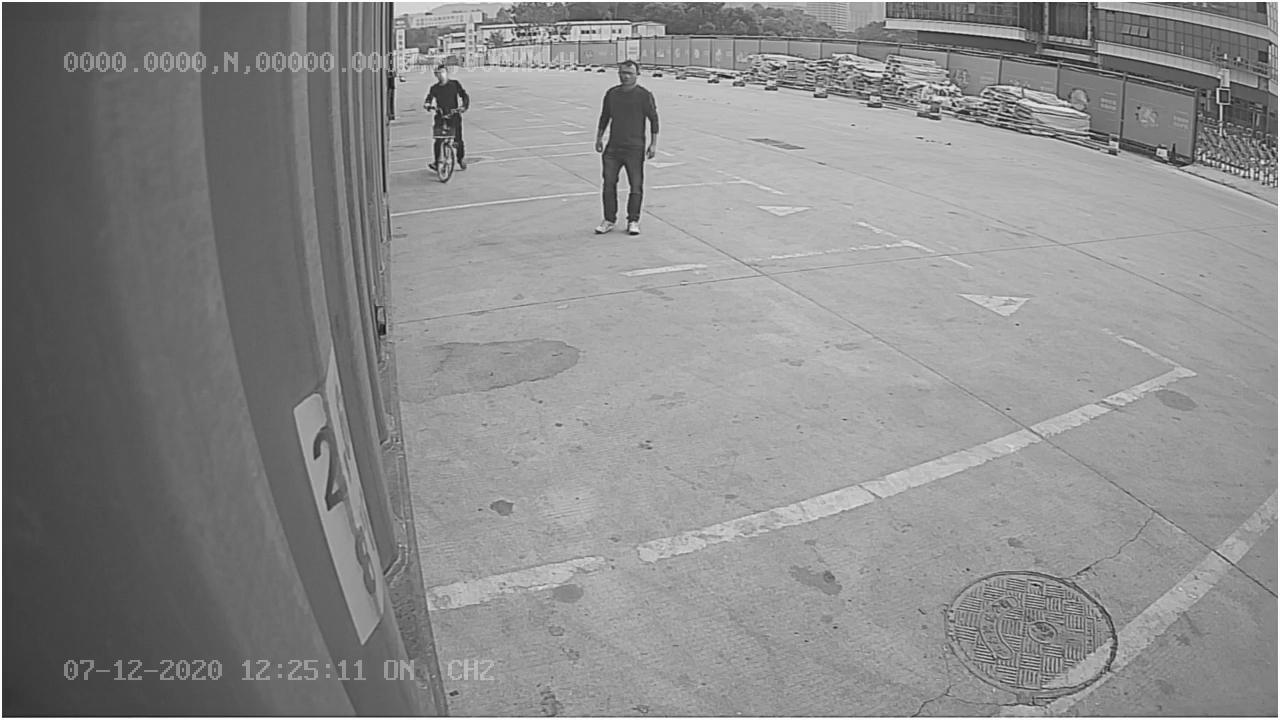person: (588, 58, 662, 236)
